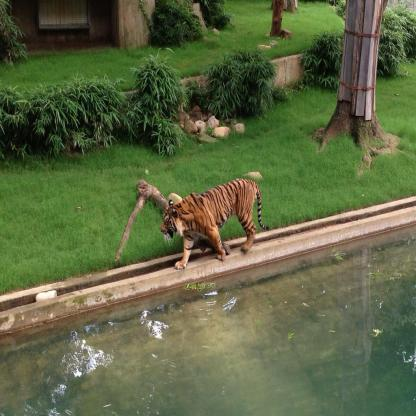tiger: (156, 198, 180, 244)
